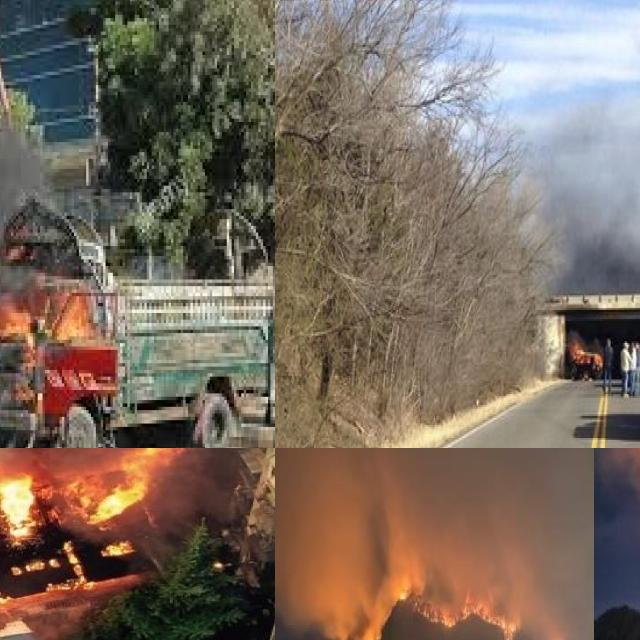fire: (0, 448, 192, 613), (323, 535, 573, 640), (0, 252, 117, 363)
smoke: (285, 448, 591, 575), (529, 0, 640, 290)
